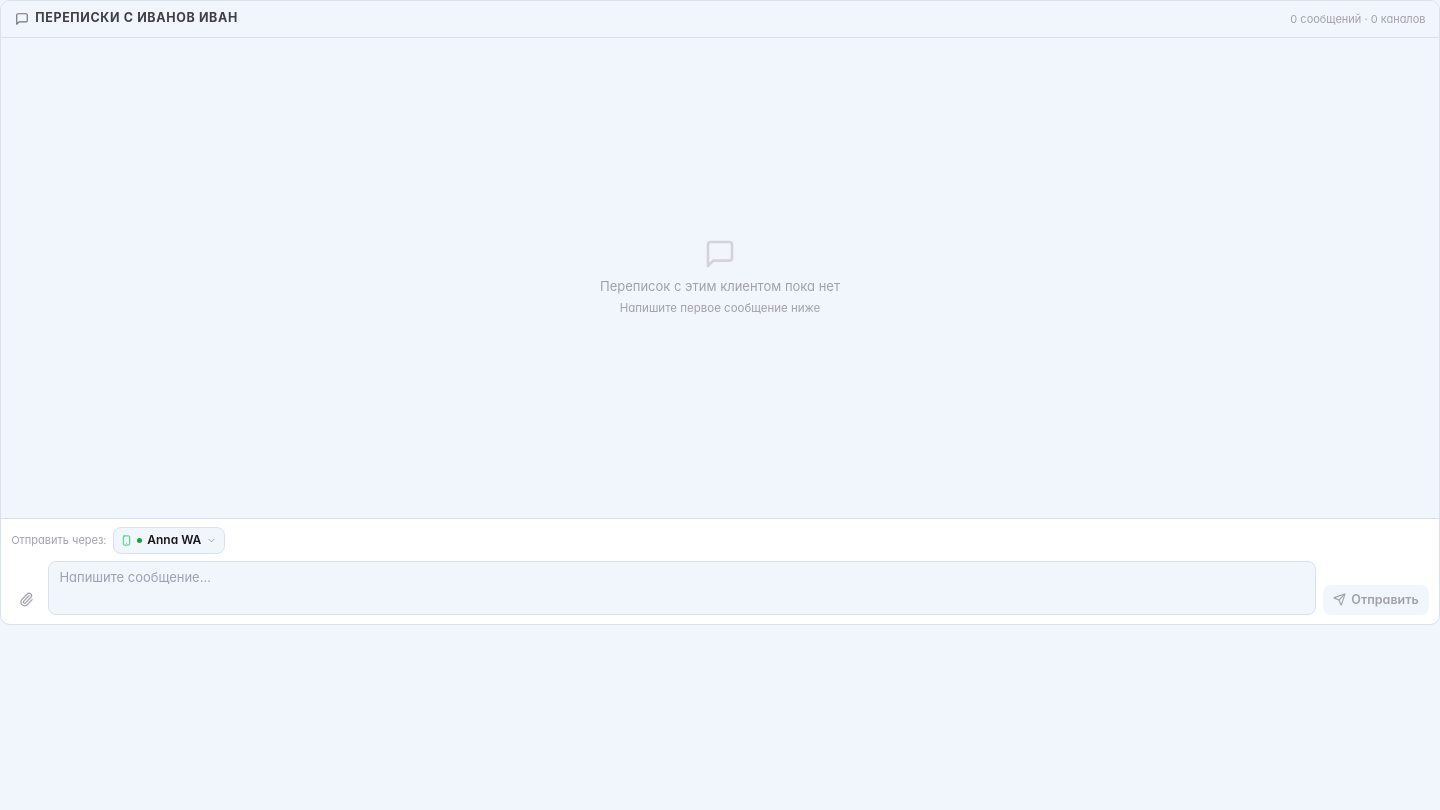
Test: LeadChatPanel — ChannelSelect › клик снаружи → закрывает dropdown
The image size is (1440, 810).
Step 1. Click the button with test id "channel-select-btn" → [169, 540], box [113, 527, 225, 554]
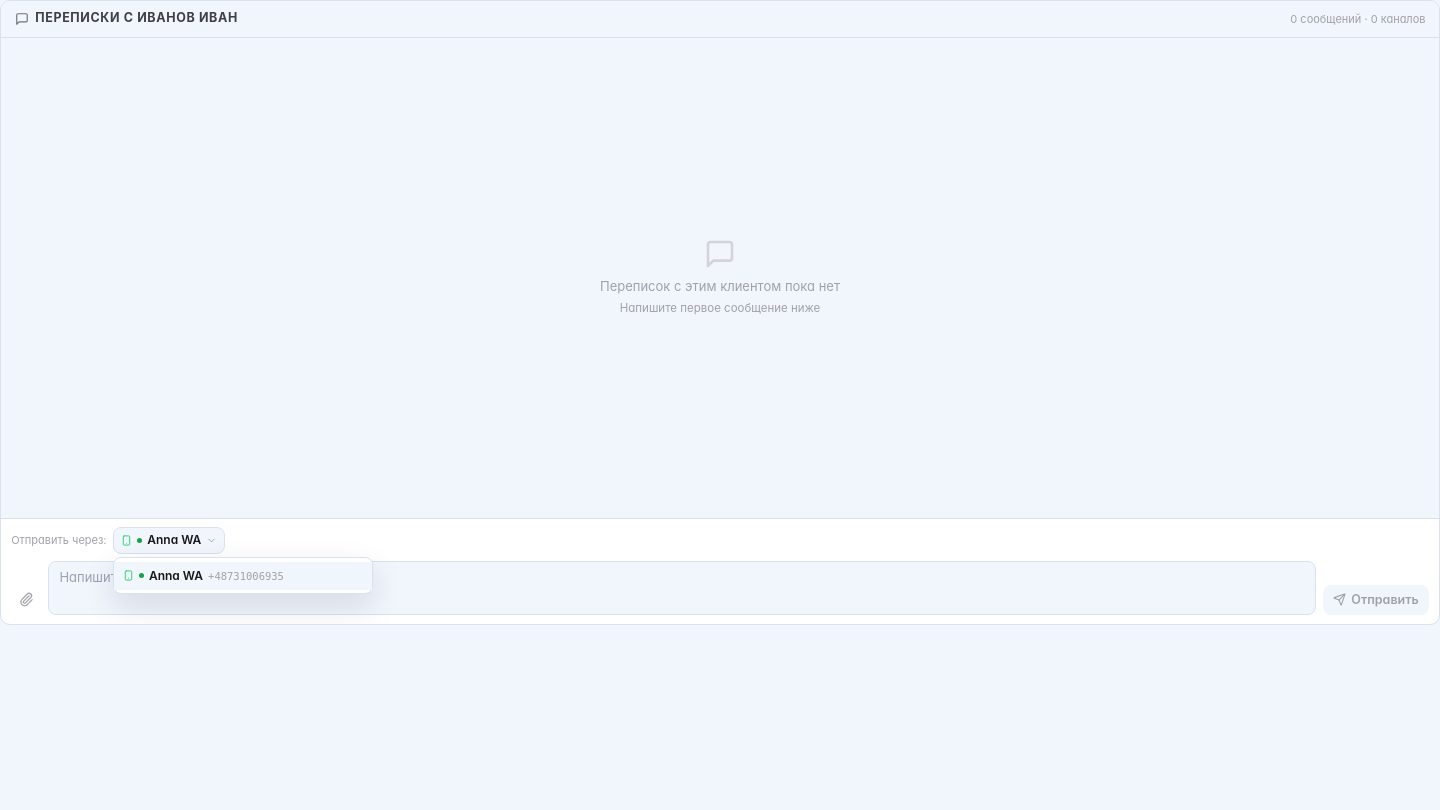
expect the element with test id "channel-dropdown" is shown: met, box [113, 557, 373, 594]
Step 2. Press the mouse on the element that starts with "Переписки с" → [720, 405], box [0, 0, 1439, 809]
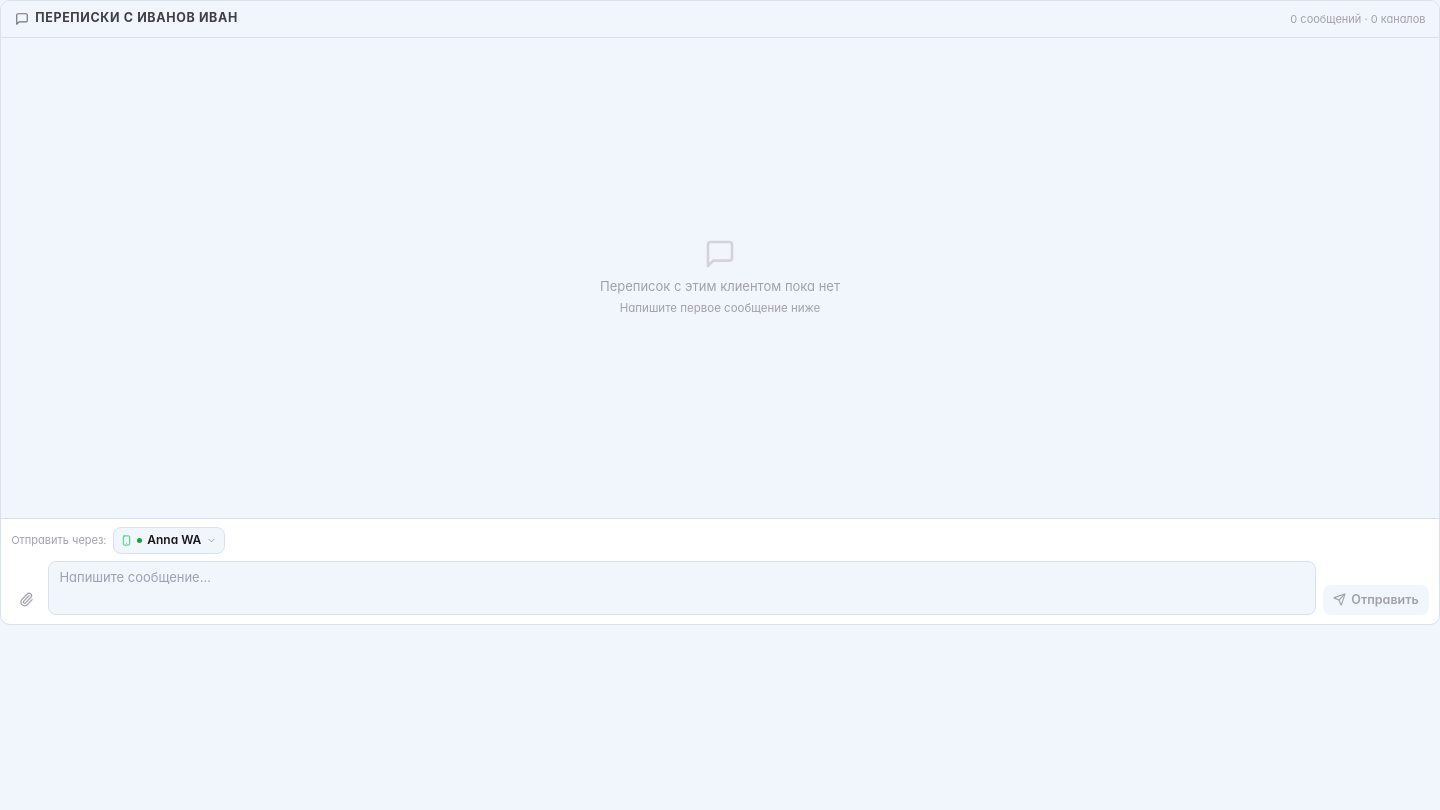
expect the element with test id "channel-dropdown" is gone: met
